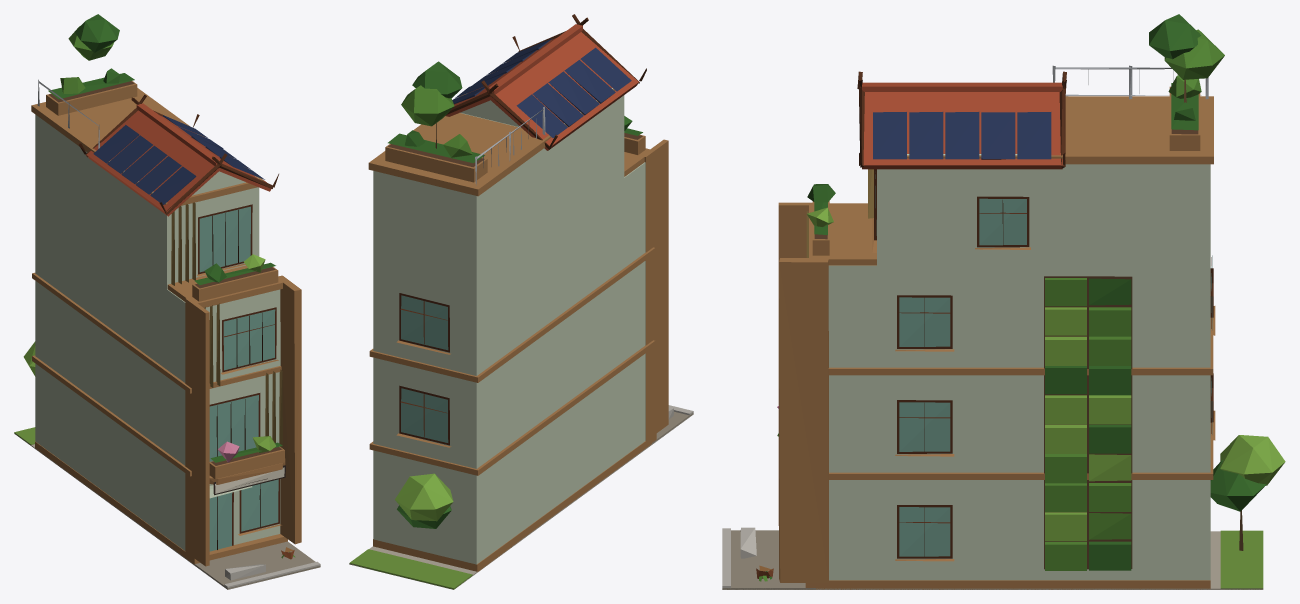
File: bay2_right.glb
3 renders of one model, left to right at view 1: azimuth 30°, elevation 25°; view 2: azimuth 150°, elevation 25°; view 3: azimuth 270°, elevation 25°, orthographic. The views are drawn at different scales.
Parts seen in each view (by area): view 1: body; view 2: body; view 3: body.
Boxes of the visible parts, box(x1,y1,x2,y2) form: body: box(14, 14, 320, 589); body: box(349, 14, 693, 589); body: box(722, 14, 1285, 589).
Bounding box in the file's own units: 5.19 × 17.9 × 16.56.
